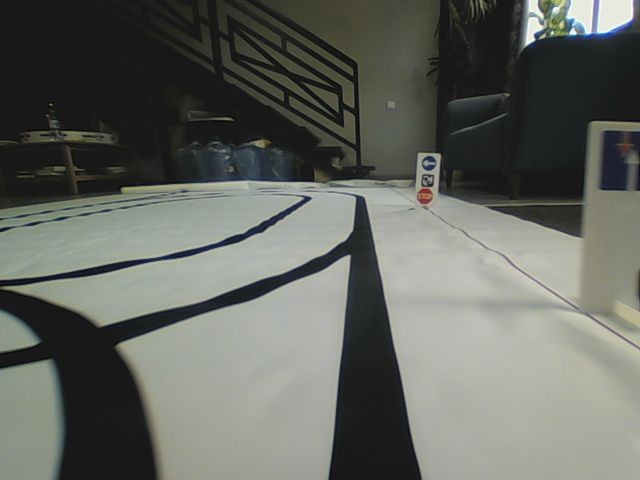Stop: (417, 188, 433, 205)
